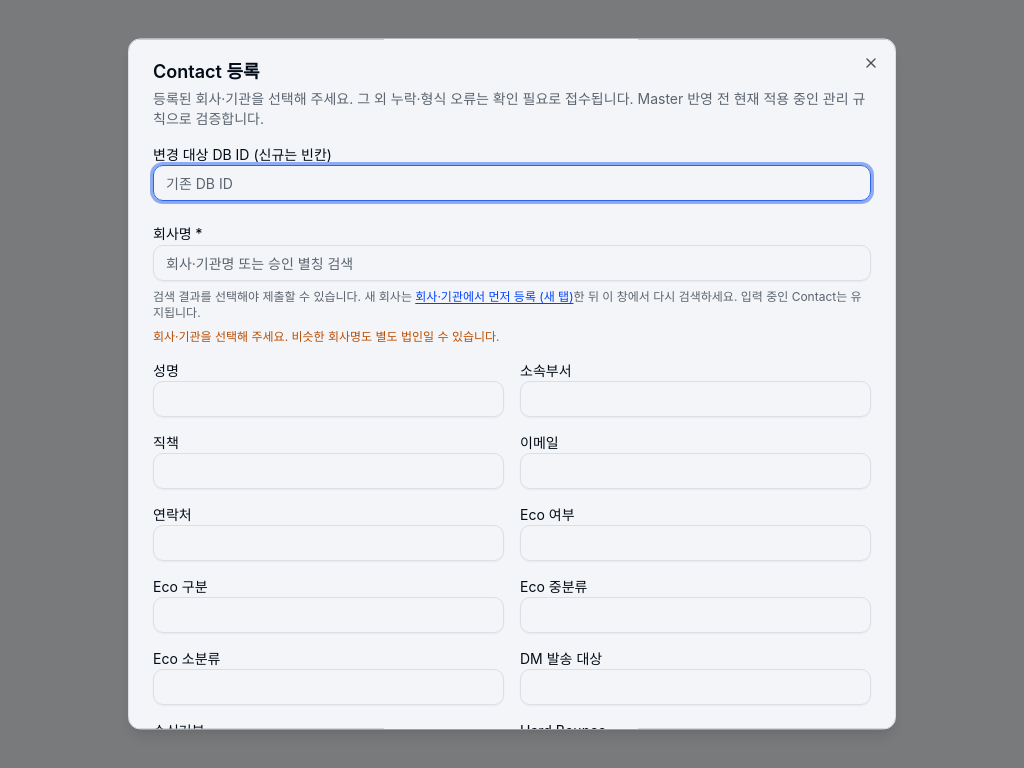
Test: discards late search results after the query changes
Type "old" into the dropdown. click: (512,263)
box: [153,245,871,281]
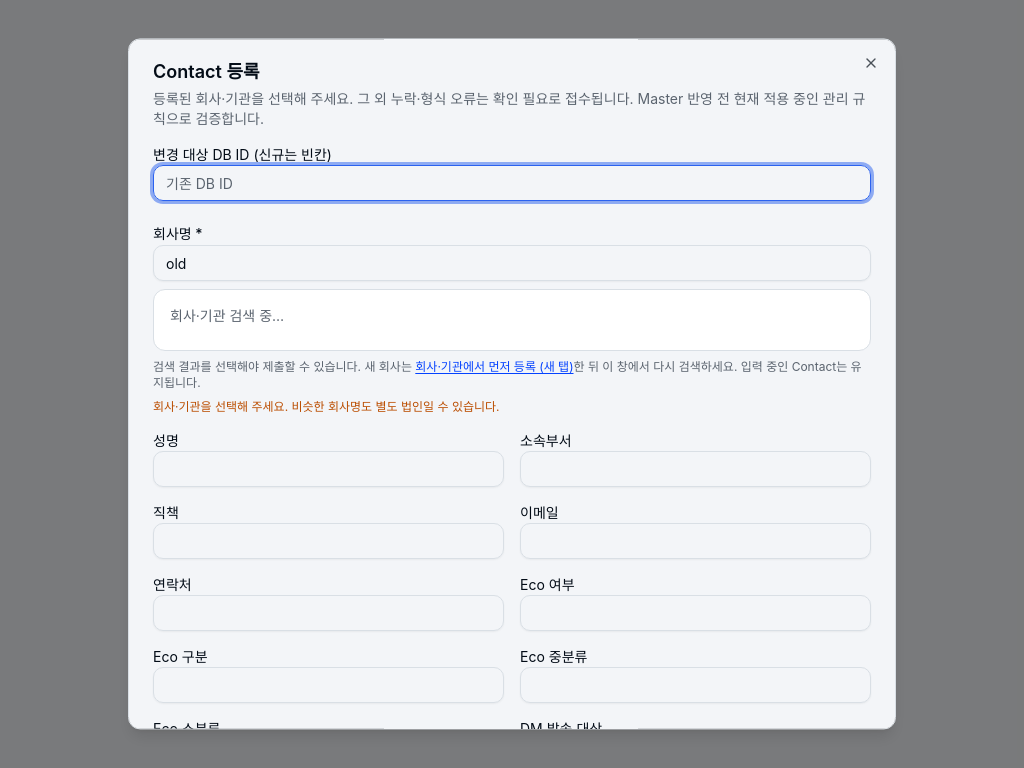
Replace the text in the dropdown with "new". click: (512,263)
box: [153,245,871,281]
(page scrolled)
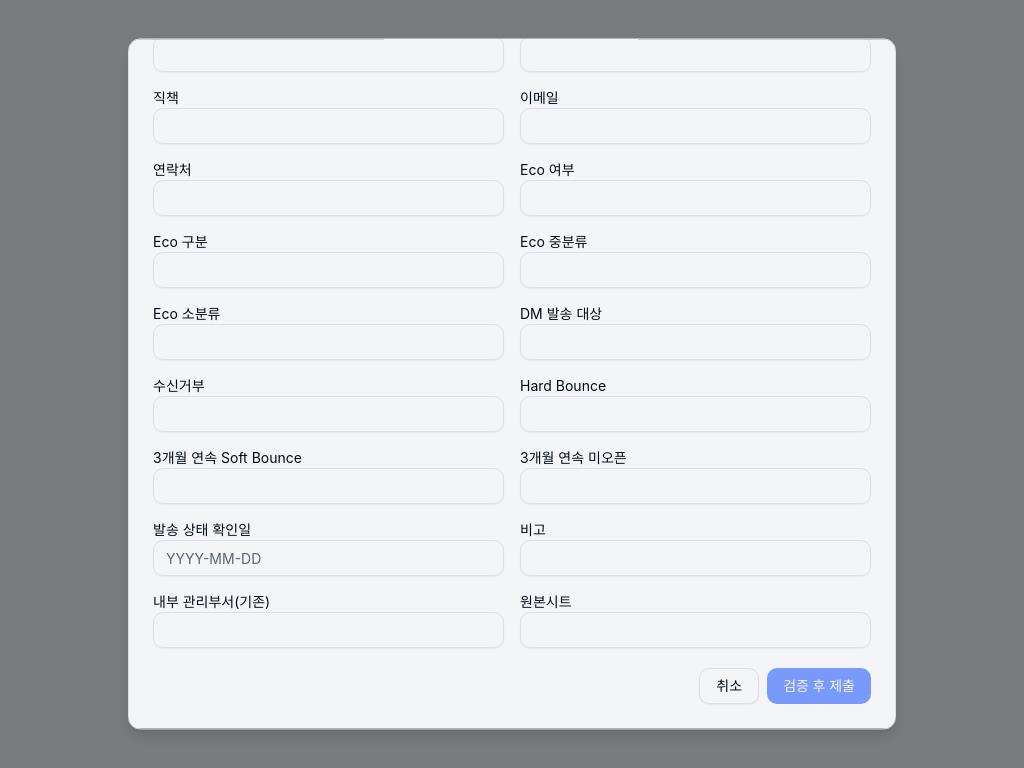
expect the button "검증 후 제출" is disabled: met, box [767,668,871,704]
